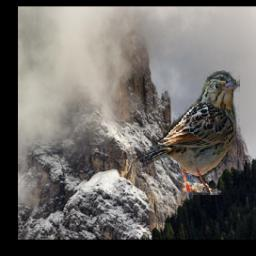Sparrow: (135, 69, 241, 196)
